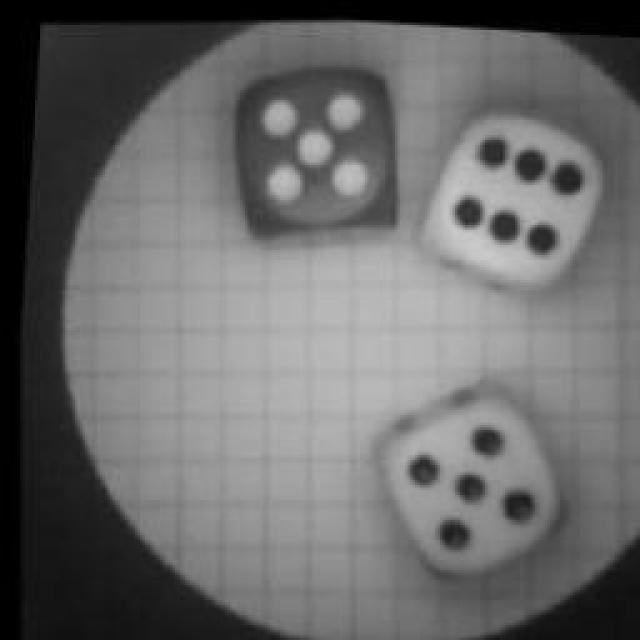dice_5: (357, 366, 575, 586), (201, 51, 411, 259)
dice_6: (388, 84, 618, 308)
